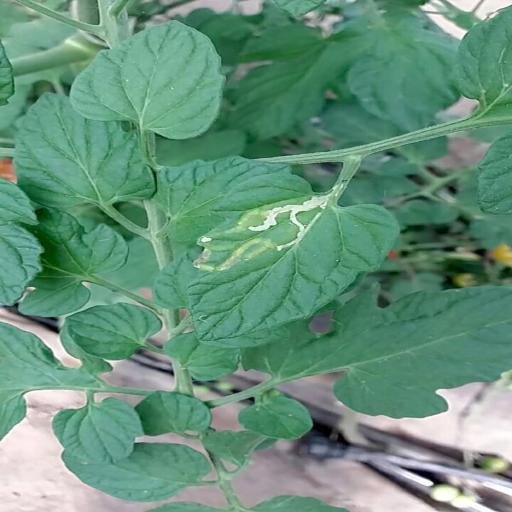disease_tomato: (180, 191, 404, 340)
